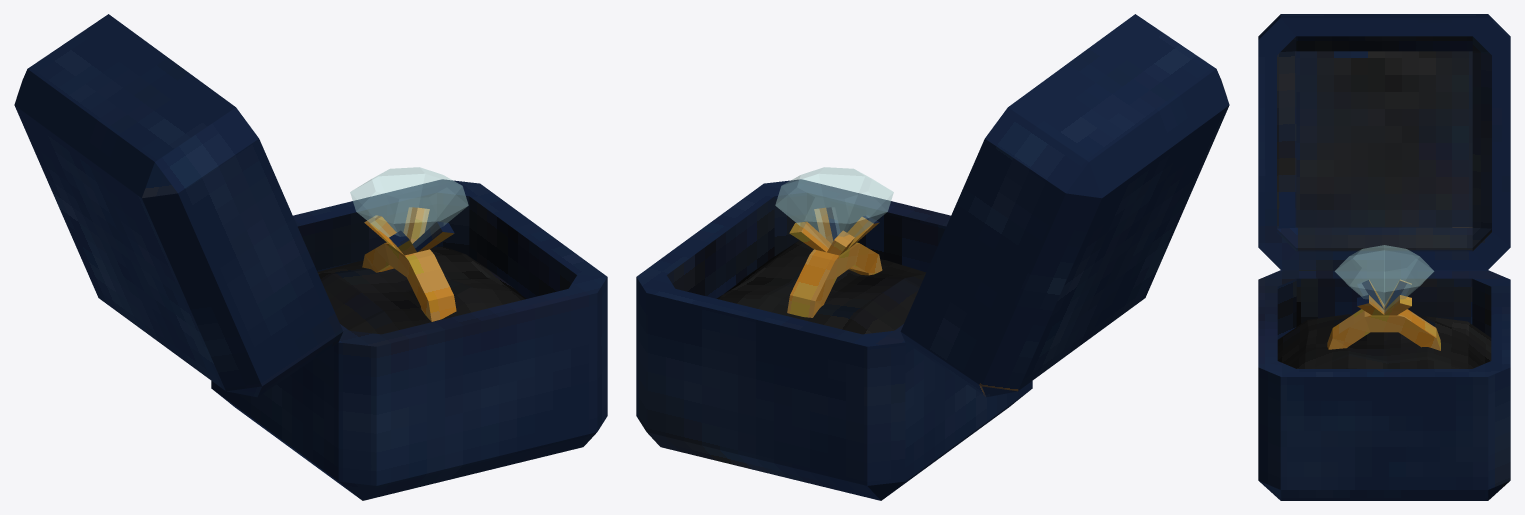
The model's file is Weddingring.fbx.
The picture shows the model from 3 angles, left to right: view 1: azimuth 30°, elevation 25°; view 2: azimuth 150°, elevation 25°; view 3: azimuth 270°, elevation 25°; orthographic projection. The views are drawn at different scales.
Visible parts, largest first — view 1: WeddingRing; view 2: WeddingRing; view 3: WeddingRing.
Part boxes in pixels (x1=…): WeddingRing: x1=14, y1=14, x2=607, y2=500; WeddingRing: x1=636, y1=14, x2=1229, y2=500; WeddingRing: x1=1258, y1=14, x2=1510, y2=500.
Bounding box in the file's own units: 15.43 × 13.44 × 8.91.
